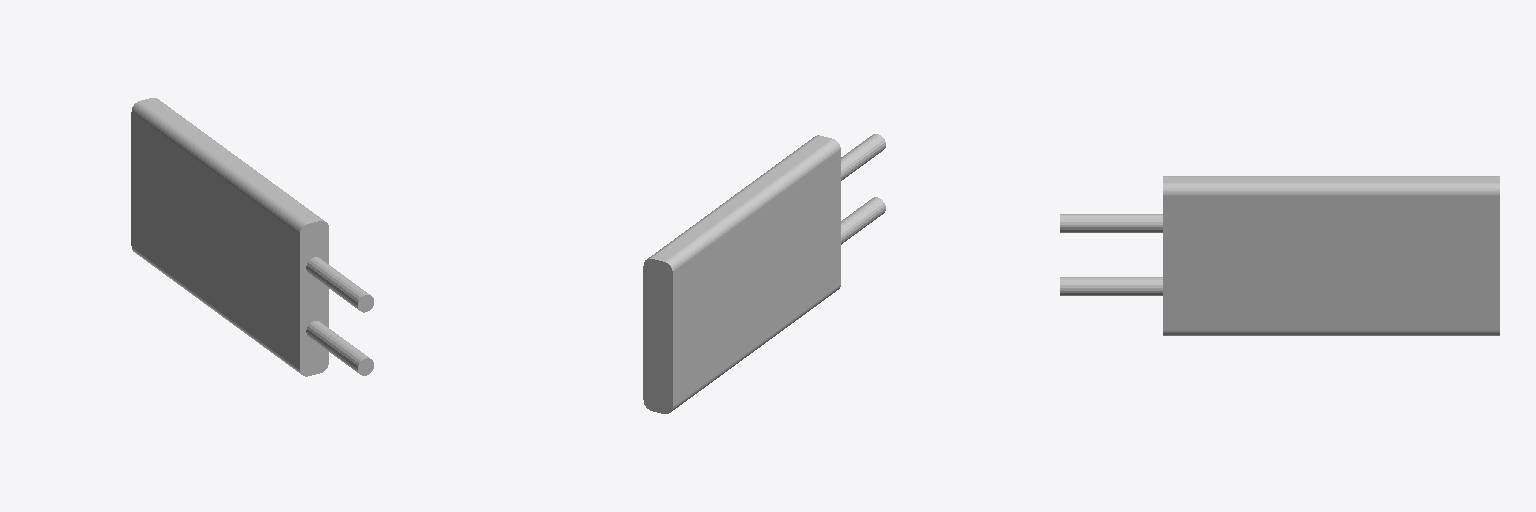
Rendered from robotHand_high.obj.
3 views of the same model, side by side, from view 1: azimuth 30°, elevation 25°; view 2: azimuth 150°, elevation 25°; view 3: azimuth 270°, elevation 25° (orthographic).
Visible parts, largest first — view 1: robotHand1:pCube5 robotHand1:polySurface2 robotHand1:polySurface, robotHand1:pCube5 robotHand1:polySurface3 robotHand1:polySurface, robotHand1:pCube5 robotHand1:polySurface4 robotHand1:polySurface; view 2: robotHand1:pCube5 robotHand1:polySurface2 robotHand1:polySurface, robotHand1:pCube5 robotHand1:polySurface4 robotHand1:polySurface, robotHand1:pCube5 robotHand1:polySurface3 robotHand1:polySurface; view 3: robotHand1:pCube5 robotHand1:polySurface2 robotHand1:polySurface, robotHand1:pCube5 robotHand1:polySurface3 robotHand1:polySurface, robotHand1:pCube5 robotHand1:polySurface4 robotHand1:polySurface.
Boxes of the visible parts, box(x1,y1,x2,y2) form: robotHand1:pCube5 robotHand1:polySurface2 robotHand1:polySurface: box(131, 98, 328, 376); robotHand1:pCube5 robotHand1:polySurface3 robotHand1:polySurface: box(306, 257, 373, 312); robotHand1:pCube5 robotHand1:polySurface4 robotHand1:polySurface: box(306, 321, 373, 375); robotHand1:pCube5 robotHand1:polySurface2 robotHand1:polySurface: box(643, 135, 840, 413); robotHand1:pCube5 robotHand1:polySurface4 robotHand1:polySurface: box(841, 197, 885, 244); robotHand1:pCube5 robotHand1:polySurface3 robotHand1:polySurface: box(841, 134, 885, 180); robotHand1:pCube5 robotHand1:polySurface2 robotHand1:polySurface: box(1163, 176, 1499, 335); robotHand1:pCube5 robotHand1:polySurface3 robotHand1:polySurface: box(1060, 214, 1162, 232); robotHand1:pCube5 robotHand1:polySurface4 robotHand1:polySurface: box(1060, 277, 1162, 295).
Size of the model in its own units: 0.1 by 0.5 by 1.31.